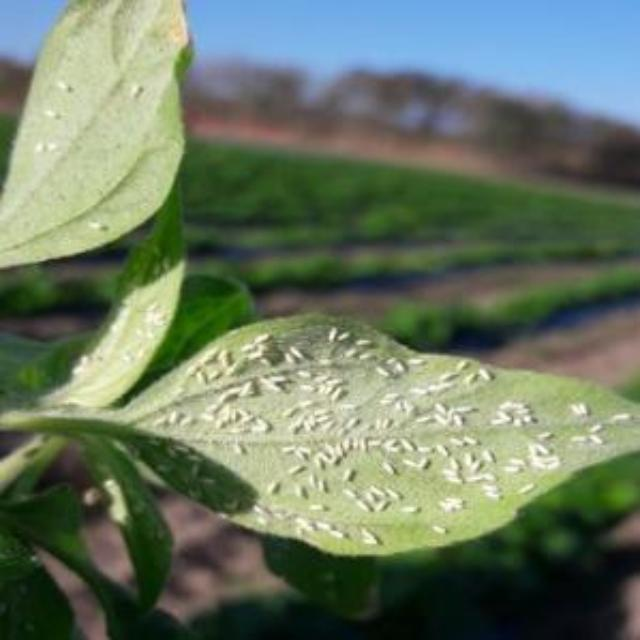Silverleaf whitefly: (149, 304, 640, 556), (122, 72, 154, 104), (52, 76, 76, 98), (32, 140, 60, 158), (40, 106, 62, 124), (90, 218, 104, 238)
